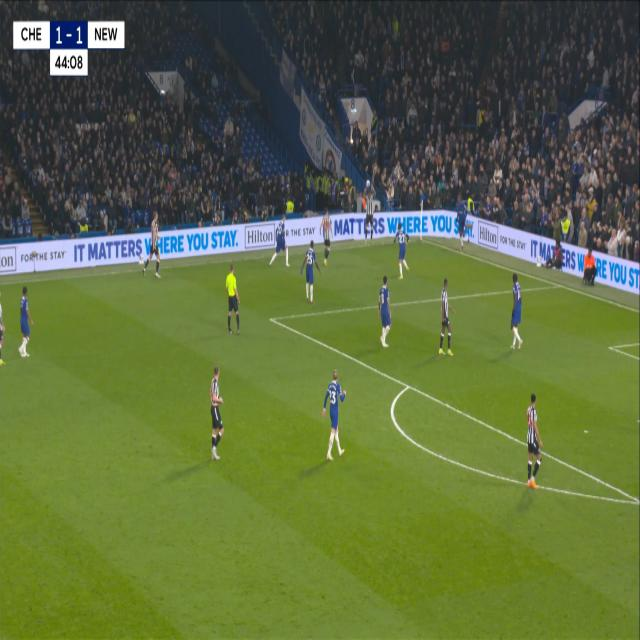Ball: (366, 176, 371, 190)
Chelsea: (320, 364, 350, 465), (506, 267, 526, 353), (266, 213, 292, 272), (17, 282, 35, 366), (298, 241, 322, 303), (392, 222, 414, 284), (378, 272, 393, 346), (455, 190, 469, 250)
Chelsea keeper: (436, 272, 456, 364)
New castle: (522, 389, 546, 495), (206, 361, 227, 466), (139, 210, 164, 282), (362, 179, 378, 245), (319, 208, 333, 268)
Refree: (223, 258, 243, 338)
